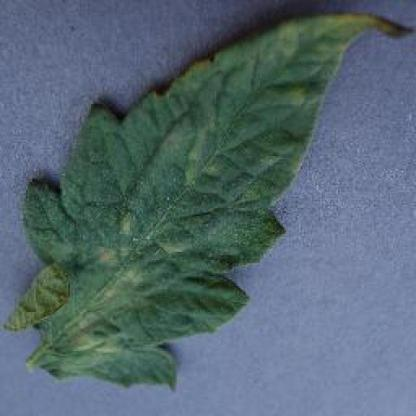Tomato_Leaf_Mold: (6, 17, 412, 387)
